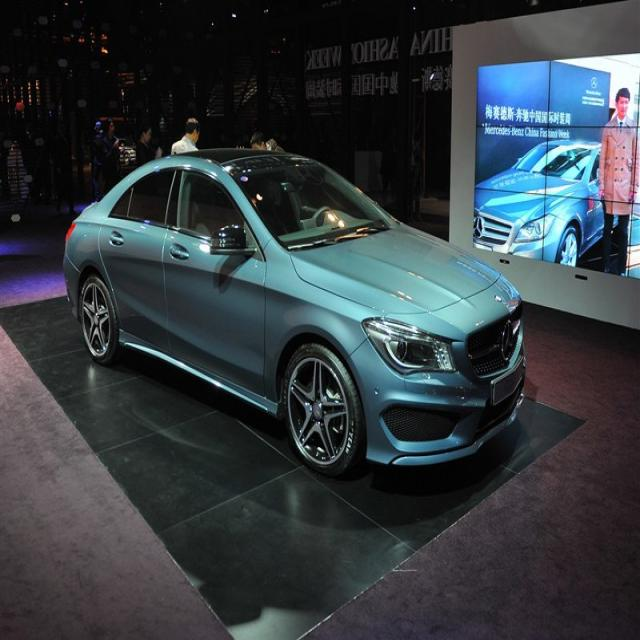door: (101, 166, 187, 344)
front_bumper: (348, 323, 530, 468)
front_glass: (226, 153, 391, 250)
front_right_side_door: (158, 162, 272, 402)
front_right_side_light: (359, 312, 454, 377)
front_right_side_mirror: (207, 221, 252, 263)
wheel: (282, 343, 360, 475), (77, 276, 116, 364)
